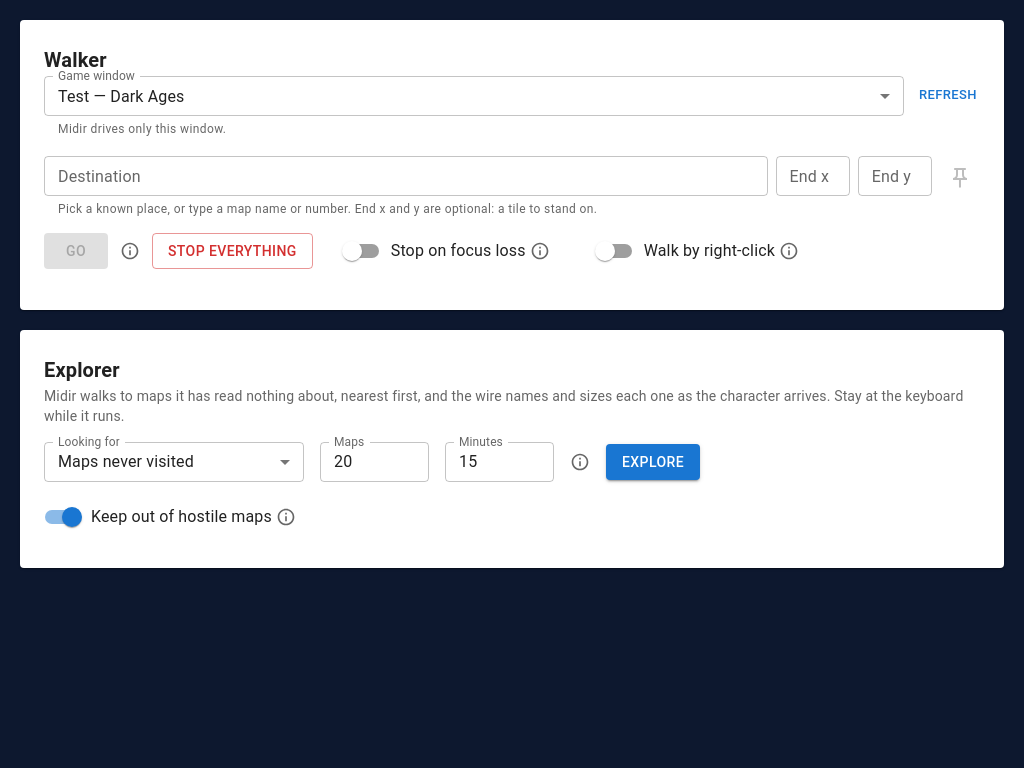
a destination Midir cannot reach › turns Go off and says why, and leaves a reachable place alone
This screenshot has width=1024, height=768.
expect the button with test id "walker-go" is shown: met, box [44,233,108,269]
In the dropdown labelled "Destination": (389, 176) [50,162,729,190], type "Hidden Cave"
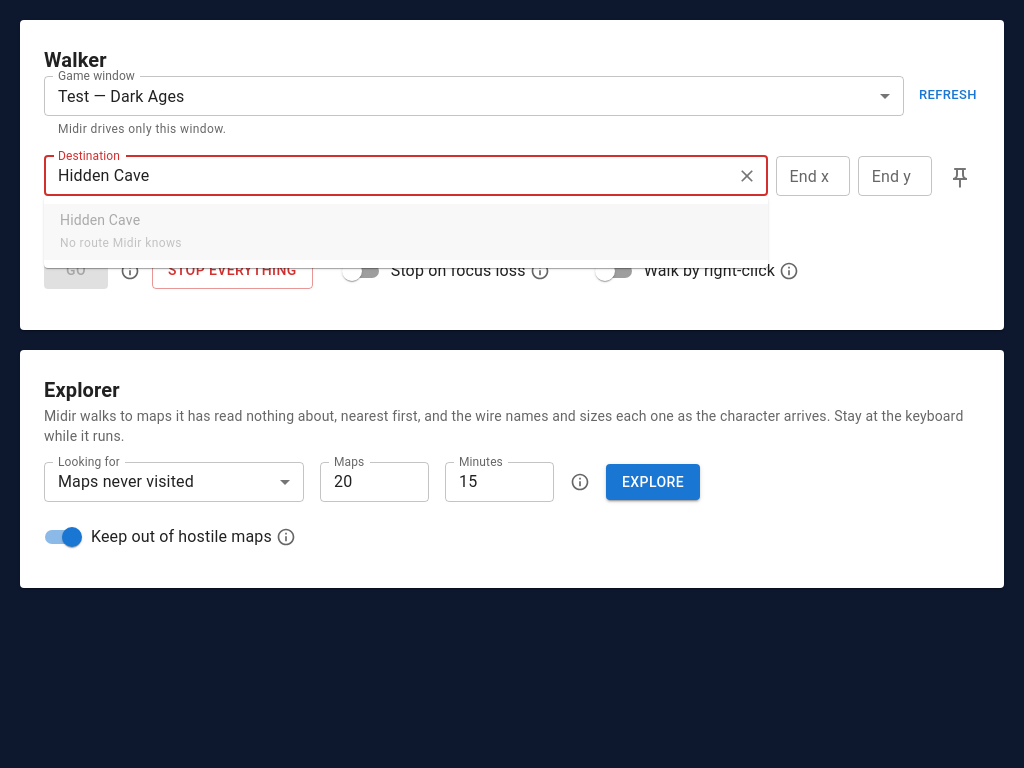
expect the button with test id "walker-go" is disabled: met, box [44,252,108,289]
expect the text "knows no way to walk there" is shown: met, box [58,202,727,236]
Replace the text in the dropdown labelled "Destination" with "Field": (389, 176) [50,162,729,190]
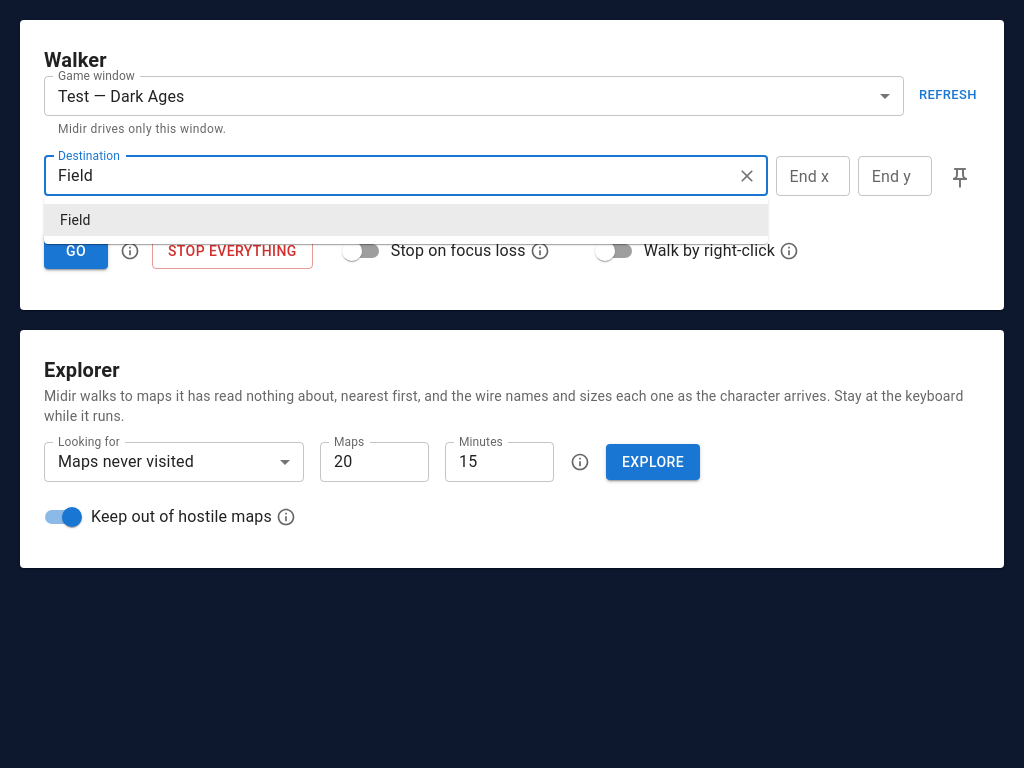
expect the button with test id "walker-go" is enabled: met, box [44,233,108,269]
